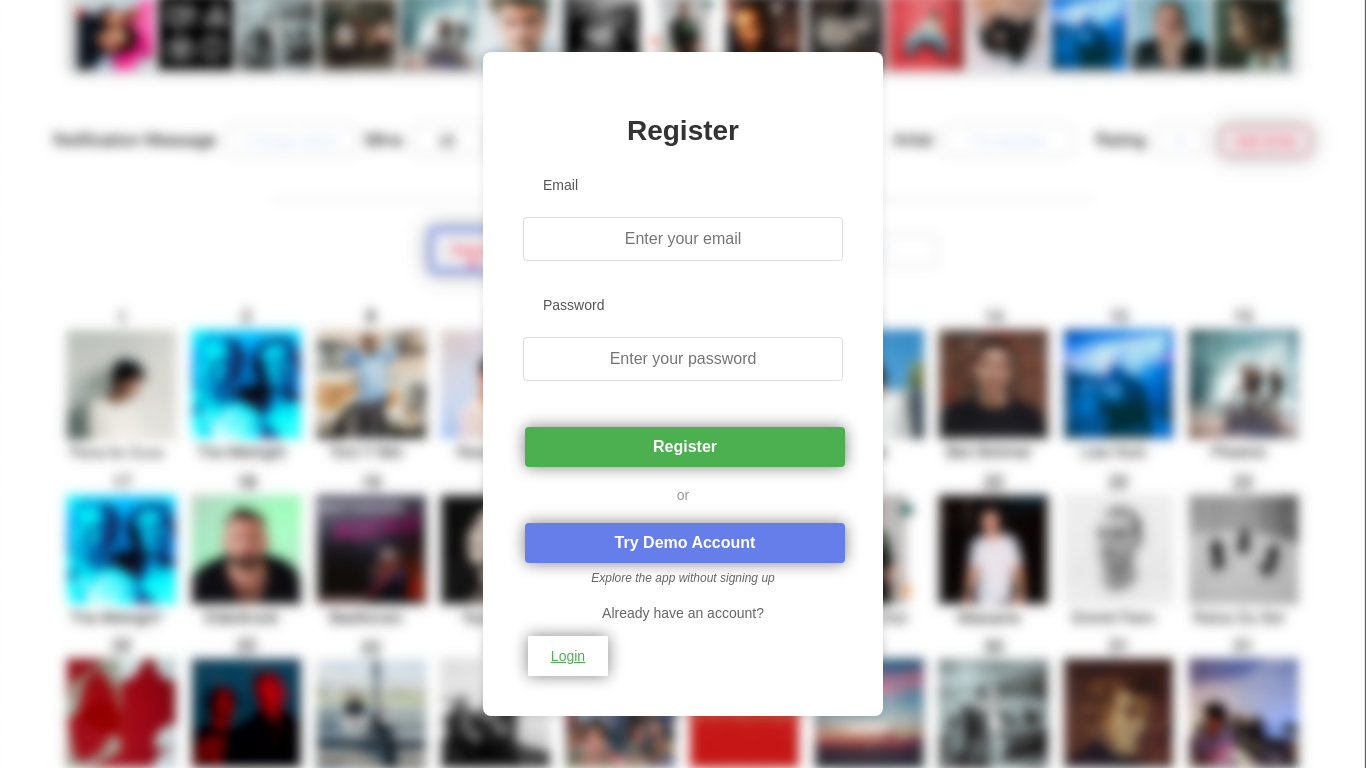
Test: Auth › requires a 6+ character password
The width and height of the screenshot is (1366, 768).
Type "a@b.com" into the field with placeholder "Enter your email" at {"x": 683, "y": 239}, box x1=523 y1=217 x2=843 y2=261
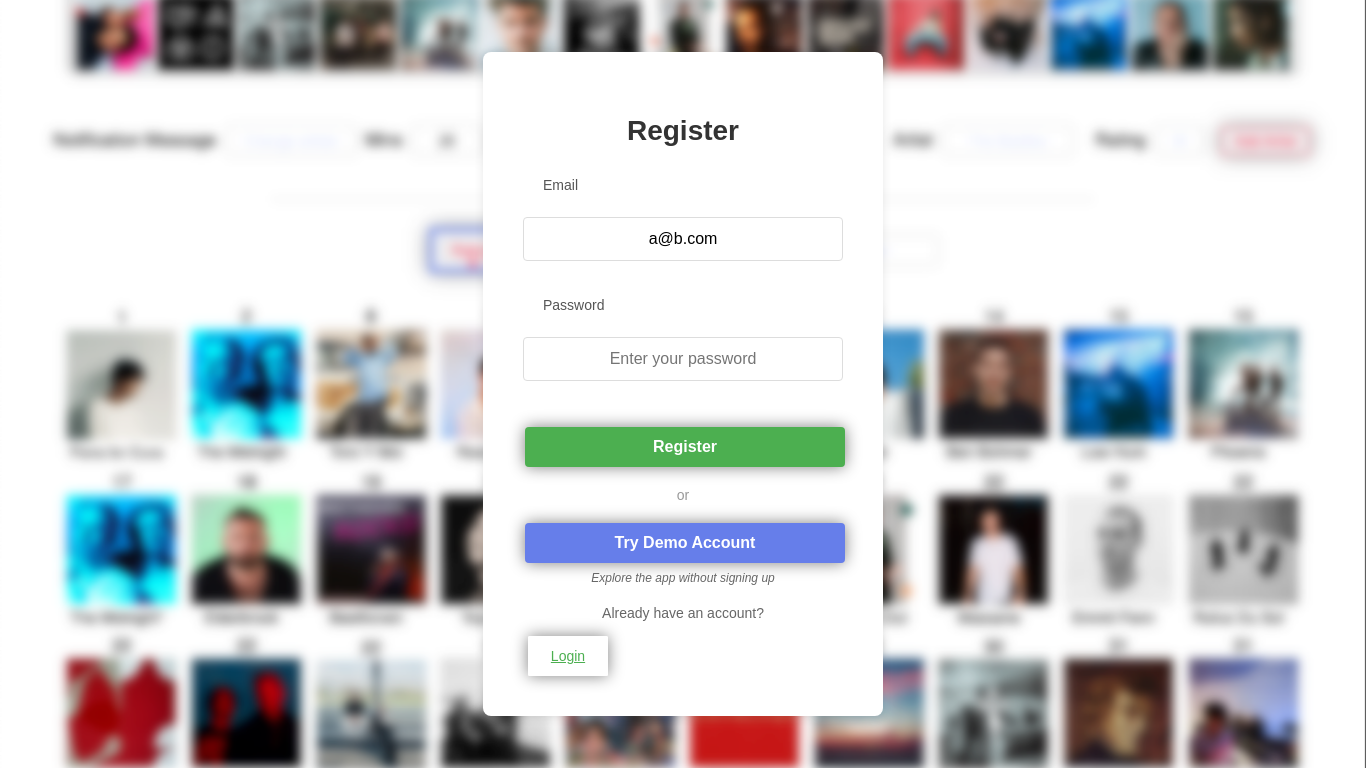
Type "12345" into the password field with placeholder "Enter your password" at {"x": 683, "y": 359}, box x1=523 y1=337 x2=843 y2=381
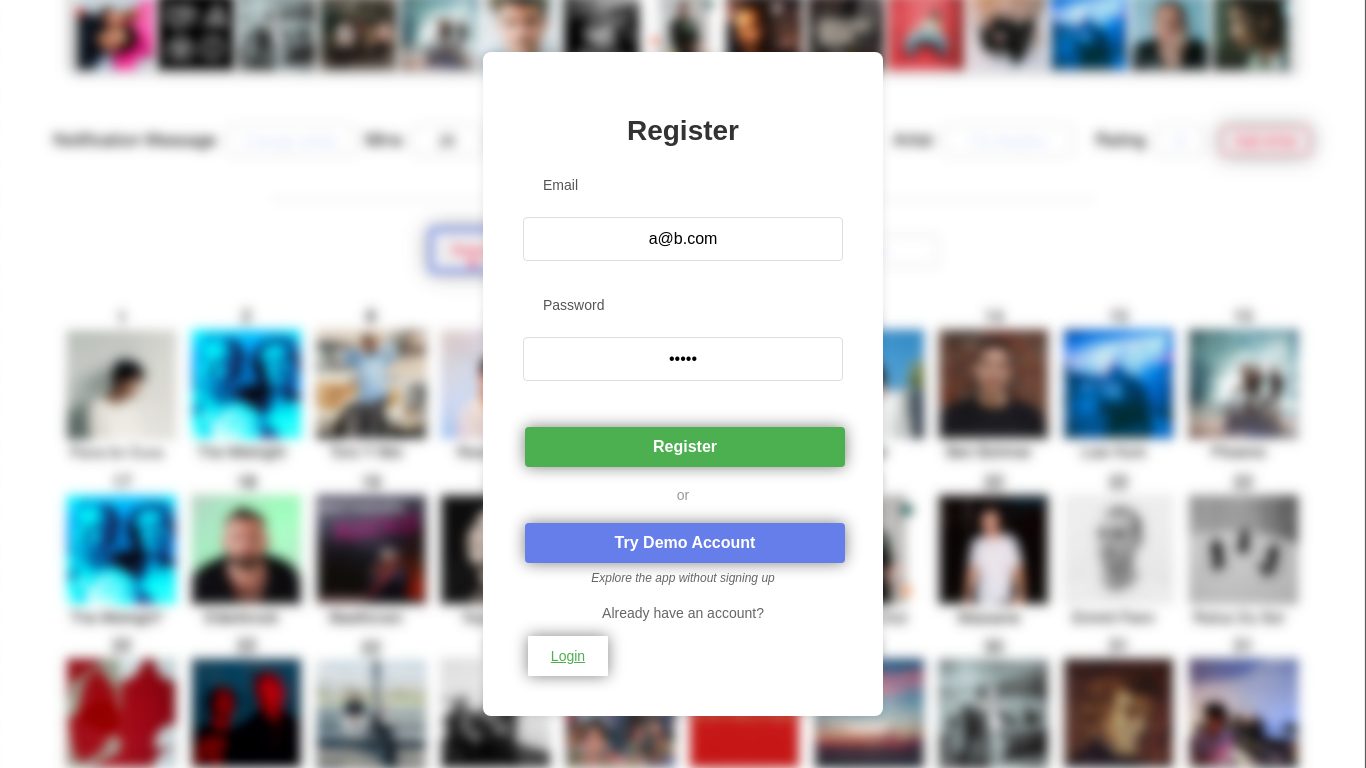
Submit the form with placeholder "Enter your email", box x1=523 y1=177 x2=843 y2=467
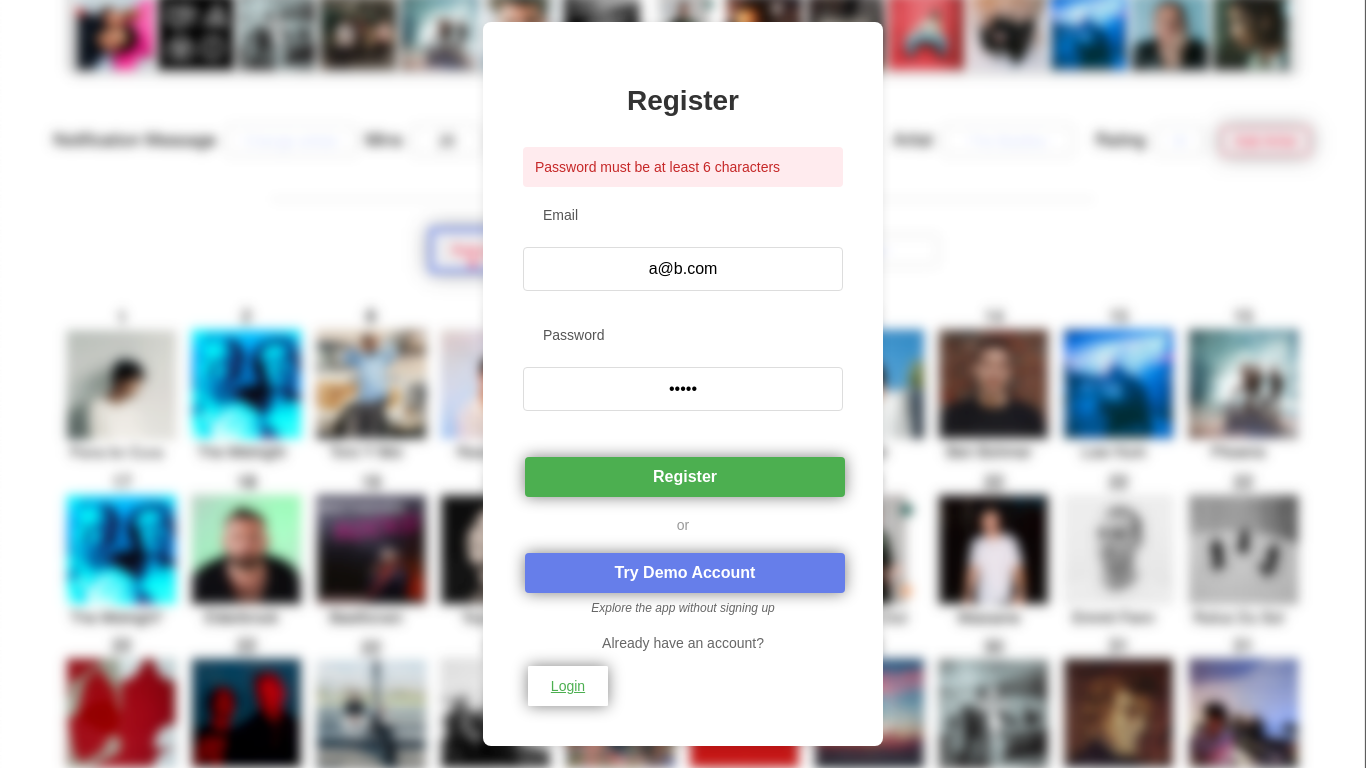
Check: the text "Password must be at least 6 characters" is shown, box x1=523 y1=147 x2=843 y2=187
